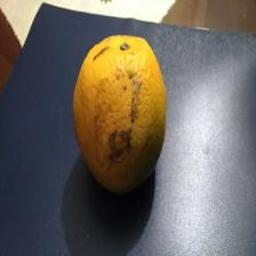Orange Semifresh: (67, 33, 165, 192)
